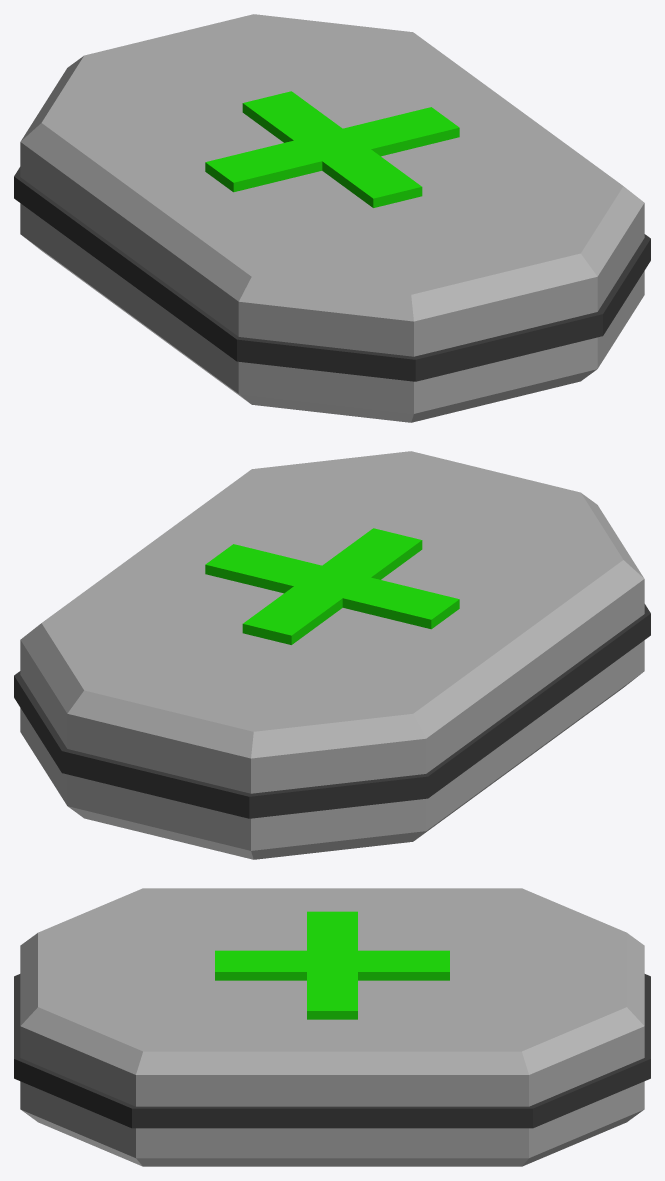
Rendered from boosters.glb.
3 renders of one model, top to bottom at view 1: azimuth 30°, elevation 25°; view 2: azimuth 150°, elevation 25°; view 3: azimuth 270°, elevation 25°, orthographic. The views are drawn at different scales.
Visible parts, largest first — view 1: Cube.001; view 2: Cube.001; view 3: Cube.001.
Boxes of the visible parts, x1,y1,x2,y2 form: Cube.001: (14, 14, 650, 422); Cube.001: (14, 451, 650, 859); Cube.001: (14, 888, 650, 1166).
Bounding box in the file's own units: 0.4986 × 0.1583 × 0.7377.
